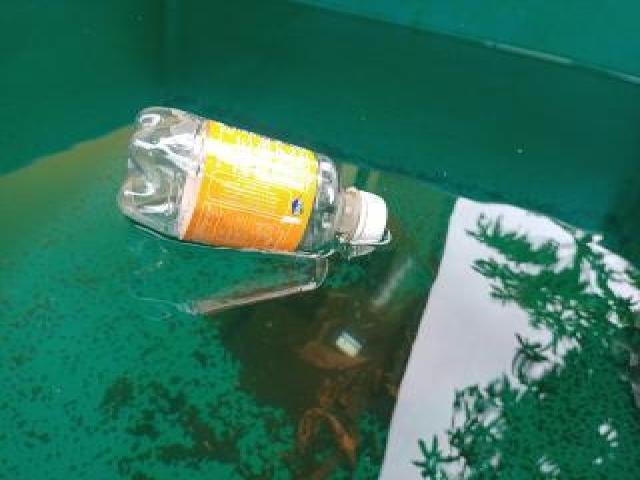Bottle: (115, 102, 387, 264)
